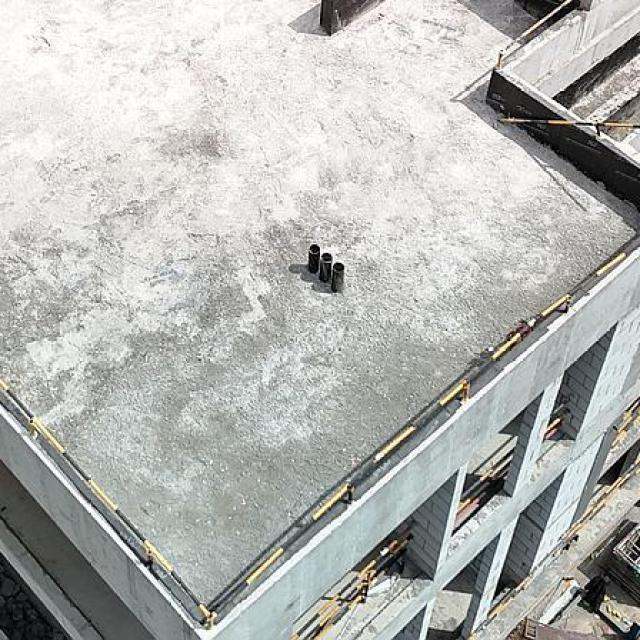Guardrail: (0, 238, 640, 632), (487, 463, 640, 621), (288, 524, 413, 640), (457, 454, 514, 514), (498, 117, 640, 136), (610, 399, 640, 446), (543, 402, 566, 442)
